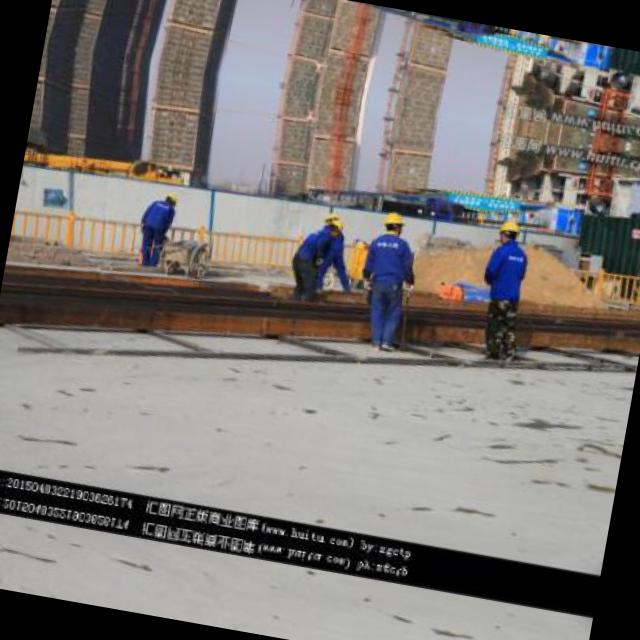helmet: (492, 213, 520, 248), (379, 207, 405, 240), (322, 216, 345, 238), (158, 188, 178, 208), (528, 32, 552, 44)
